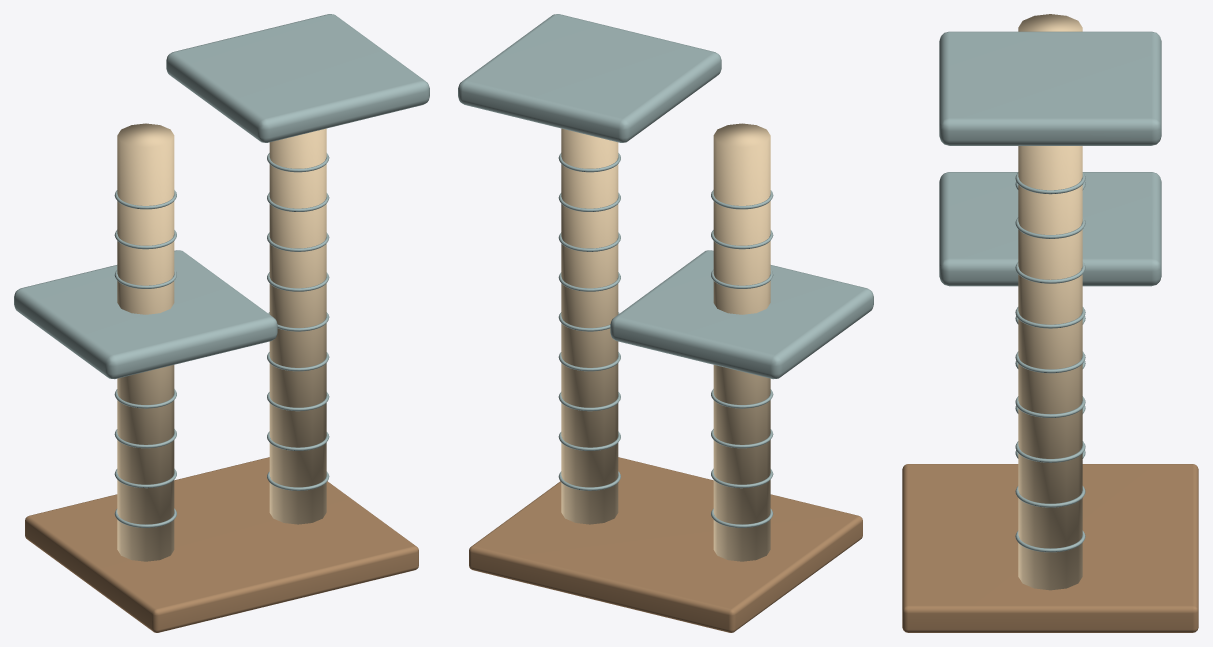
File: atelier-cat-tree.glb
The picture shows the model from 3 angles, left to right: view 1: azimuth 30°, elevation 25°; view 2: azimuth 150°, elevation 25°; view 3: azimuth 270°, elevation 25°; orthographic projection. The views are drawn at different scales.
Visible parts, largest first — view 1: fabric.111, accent.046, legs.238; view 2: fabric.111, accent.046, legs.238; view 3: fabric.111, legs.238, accent.046.
Part boxes in pixels (x1,y1,x2,y2): fabric.111: [14, 14, 429, 527]; accent.046: [117, 123, 326, 561]; legs.238: [25, 457, 418, 632]; fabric.111: [458, 14, 873, 527]; accent.046: [561, 123, 770, 561]; legs.238: [469, 457, 862, 632]; fabric.111: [939, 31, 1161, 552]; legs.238: [902, 464, 1198, 632]; accent.046: [1018, 14, 1082, 590].
Bounding box in the file's own units: 0.85 × 1.18 × 0.6.
